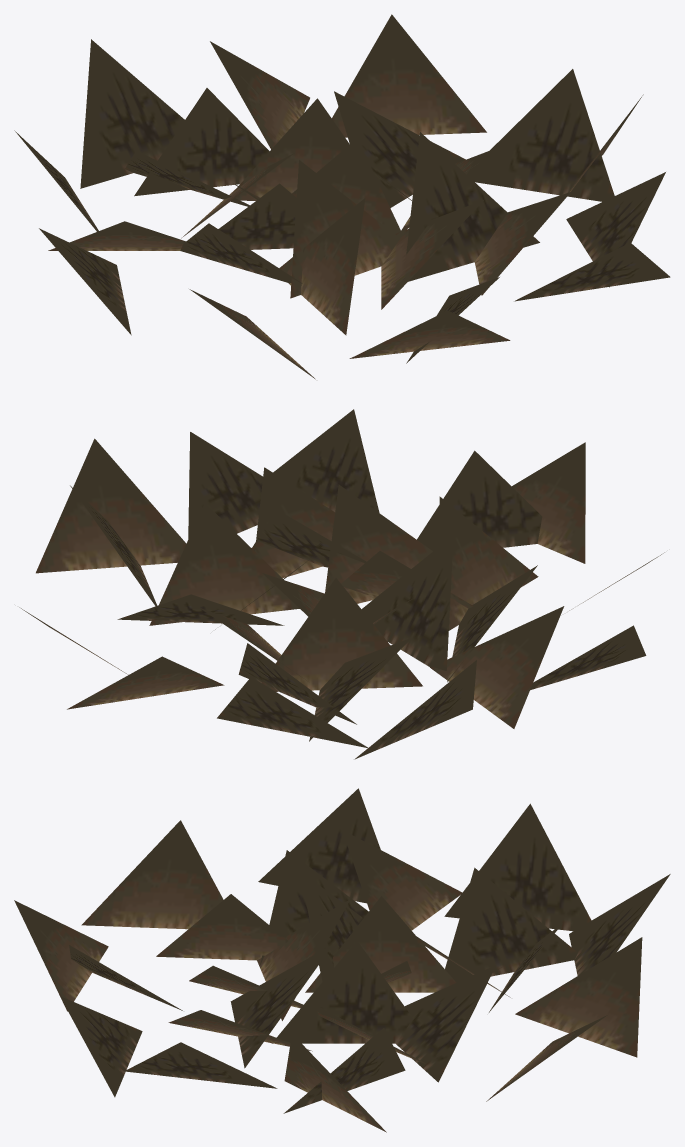
Rendered from dec_dry_grass_08_86532.glb.
3 renders of one model, top to bottom at view 1: azimuth 30°, elevation 25°; view 2: azimuth 150°, elevation 25°; view 3: azimuth 270°, elevation 25°, orthographic. The views are drawn at different scales.
Parts seen in each view (by area): view 1: dry_grass_08_mesh; view 2: dry_grass_08_mesh; view 3: dry_grass_08_mesh.
Boxes of the visible parts, x1,y1,x2,y2 form: dry_grass_08_mesh: [14, 14, 670, 379]; dry_grass_08_mesh: [19, 409, 664, 759]; dry_grass_08_mesh: [14, 788, 670, 1132].
Size of the model in its own units: 1.8 by 0.2966 by 1.85.
1 material, 1 textured.
